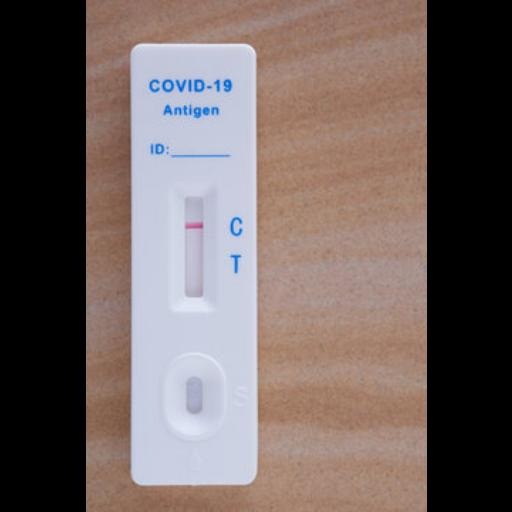Neg: (132, 44, 254, 486)
